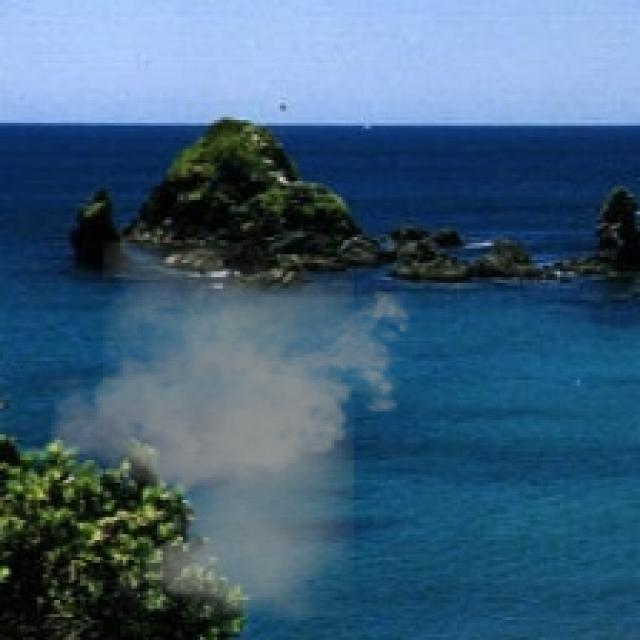Smoke: (34, 240, 423, 623)
